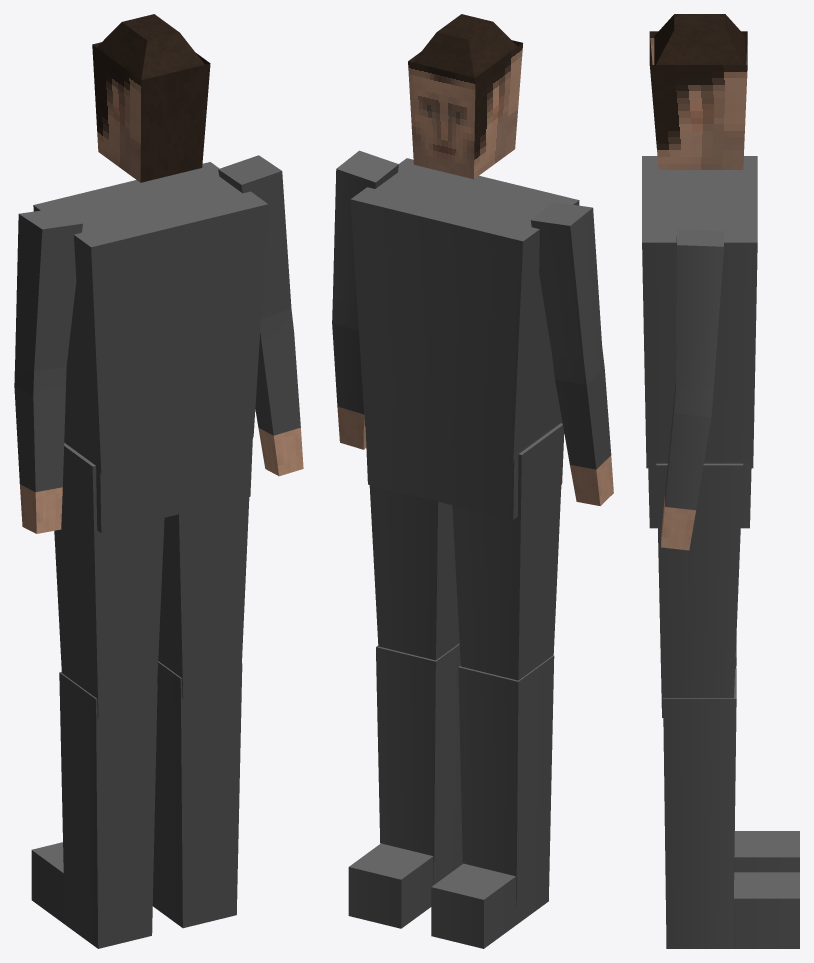
Rendered from scientf.obj.
3 renders of one model, left to right at view 1: azimuth 30°, elevation 25°; view 2: azimuth 150°, elevation 25°; view 3: azimuth 270°, elevation 25°, orthographic. The views are drawn at different scales.
Parts seen in each view (by area): view 1: torso, shin_r, thigh_r, shin_l, head, thigh_l, hips, arm_r, forearm_r, forearm_l, arm_l; view 2: torso, shin_r, shin_l, thigh_r, head, thigh_l, hips, arm_r, forearm_r, arm_l, forearm_l; view 3: torso, shin_l, thigh_l, head, arm_l, forearm_l, shin_r, hips.
Part boxes in pixels (left/top/right/bottom): torso: left=33, top=162, right=268, bottom=474; shin_r: left=31, top=672, right=157, bottom=948; thigh_r: left=54, top=443, right=164, bottom=719; shin_l: left=152, top=661, right=242, bottom=928; head: left=92, top=14, right=210, bottom=182; thigh_l: left=158, top=497, right=249, bottom=698; hips: left=64, top=437, right=252, bottom=533; arm_r: left=15, top=208, right=82, bottom=371; forearm_r: left=14, top=359, right=66, bottom=533; forearm_l: left=255, top=308, right=303, bottom=476; arm_l: left=218, top=155, right=291, bottom=318; torso: left=350, top=158, right=579, bottom=462; shin_r: left=431, top=655, right=554, bottom=948; shin_l: left=348, top=643, right=462, bottom=928; thigh_r: left=452, top=423, right=563, bottom=680; head: left=408, top=14, right=522, bottom=179; thigh_l: left=369, top=485, right=459, bottom=660; hips: left=365, top=419, right=564, bottom=519; arm_r: left=530, top=202, right=601, bottom=359; forearm_r: left=552, top=346, right=613, bottom=505; arm_l: left=333, top=150, right=398, bottom=306; forearm_l: left=332, top=299, right=366, bottom=449; torso: left=642, top=156, right=757, bottom=468; shin_l: left=663, top=668, right=799, bottom=948; thigh_l: left=656, top=463, right=743, bottom=717; head: left=649, top=14, right=747, bottom=169; arm_l: left=676, top=229, right=723, bottom=390; forearm_l: left=661, top=378, right=713, bottom=550; shin_r: left=734, top=636, right=799, bottom=872; hips: left=648, top=460, right=751, bottom=528.
Bounding box in the file's own units: 37.48 × 120 × 19.17.
